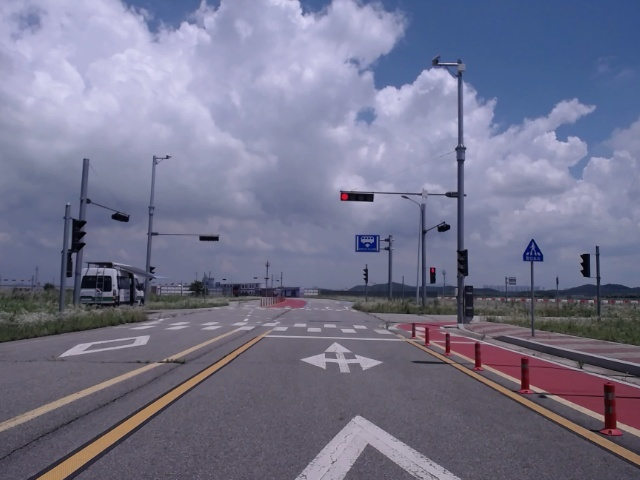red_4: (341, 193, 374, 202)
